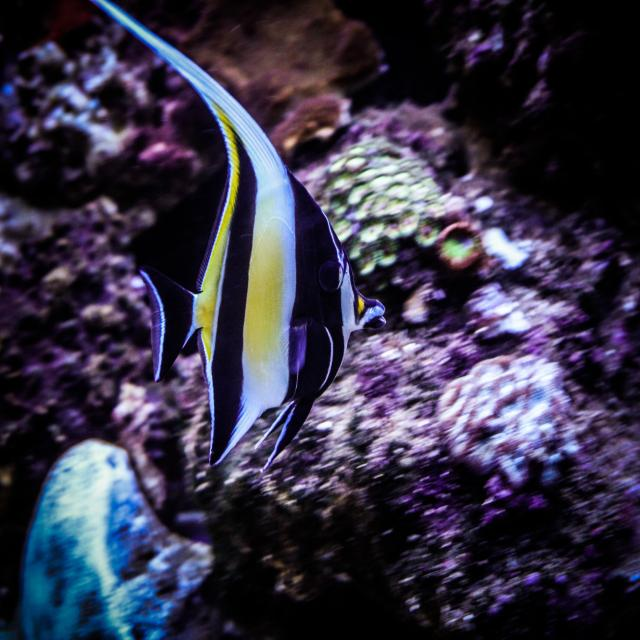MorishIdol: (90, 1, 388, 477)
